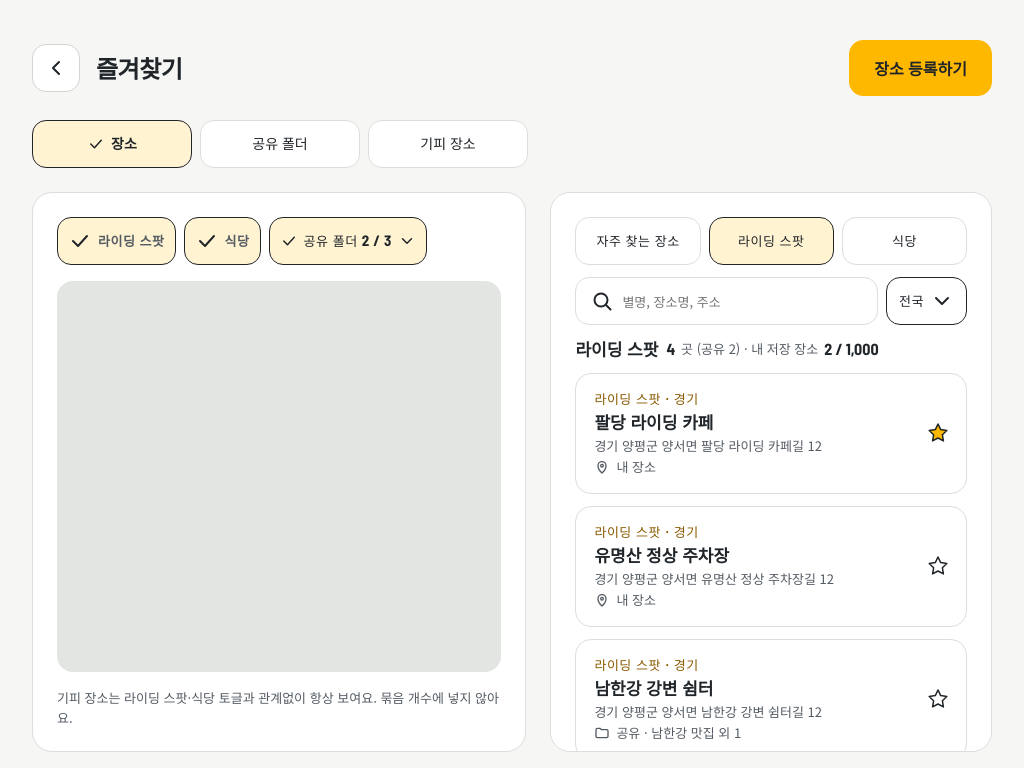
states added with the 456 frames › shows the empty invite state with the link count (G20a)
Click the button "공유 폴더": click(280, 144) left=200, top=120, right=360, bottom=168
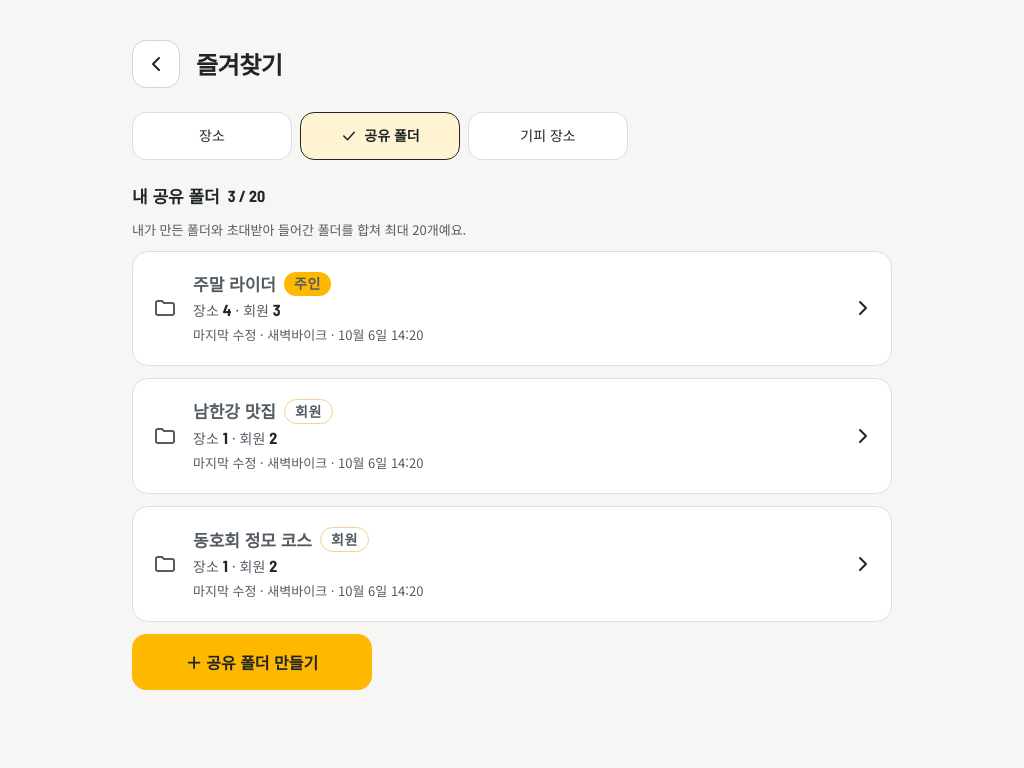
Click the button "주말 라이더 주인 장소 4 · 회원 3 마지막 수정 · 새벽바이크 · 10월 6일 14:20": click(234, 284) left=132, top=251, right=892, bottom=366
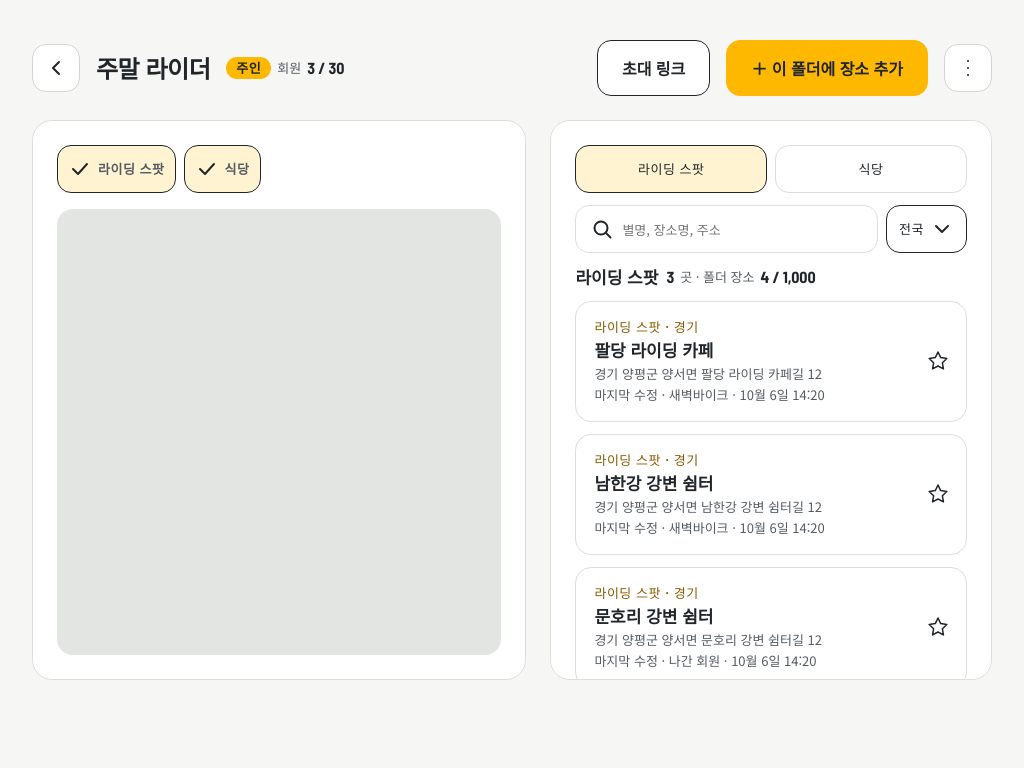
Click the button named "폴더 메뉴": click(968, 68) left=944, top=44, right=992, bottom=92
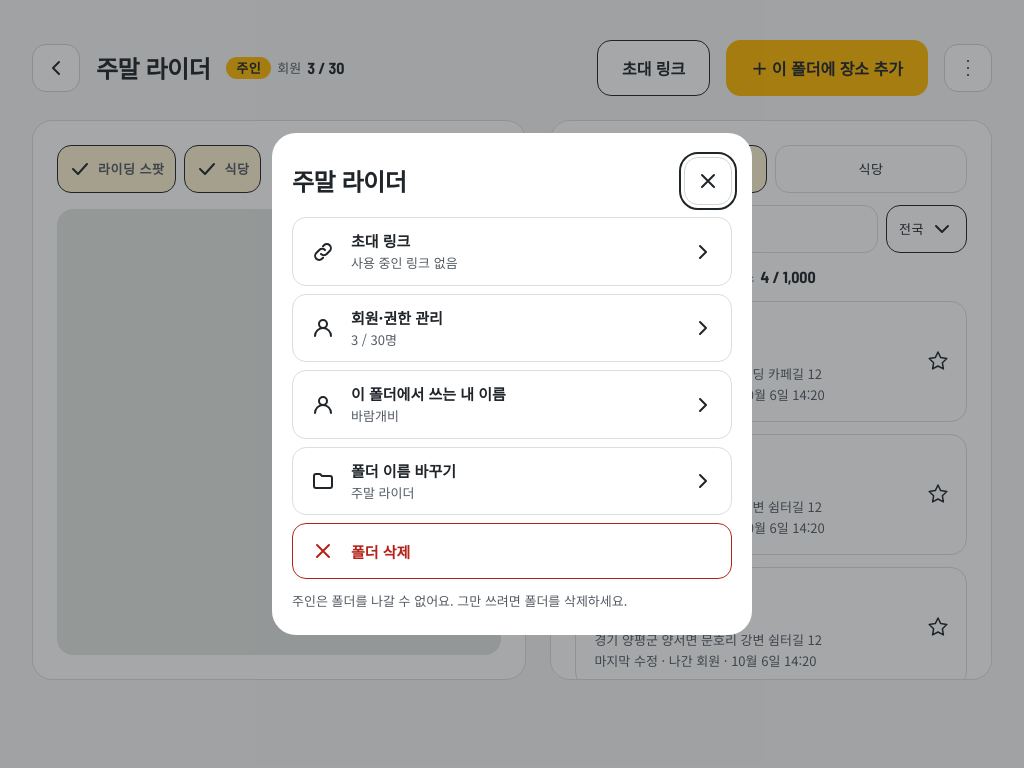
Click the button "초대 링크 사용 중인 링크 없음": click(381, 241) left=292, top=217, right=732, bottom=286
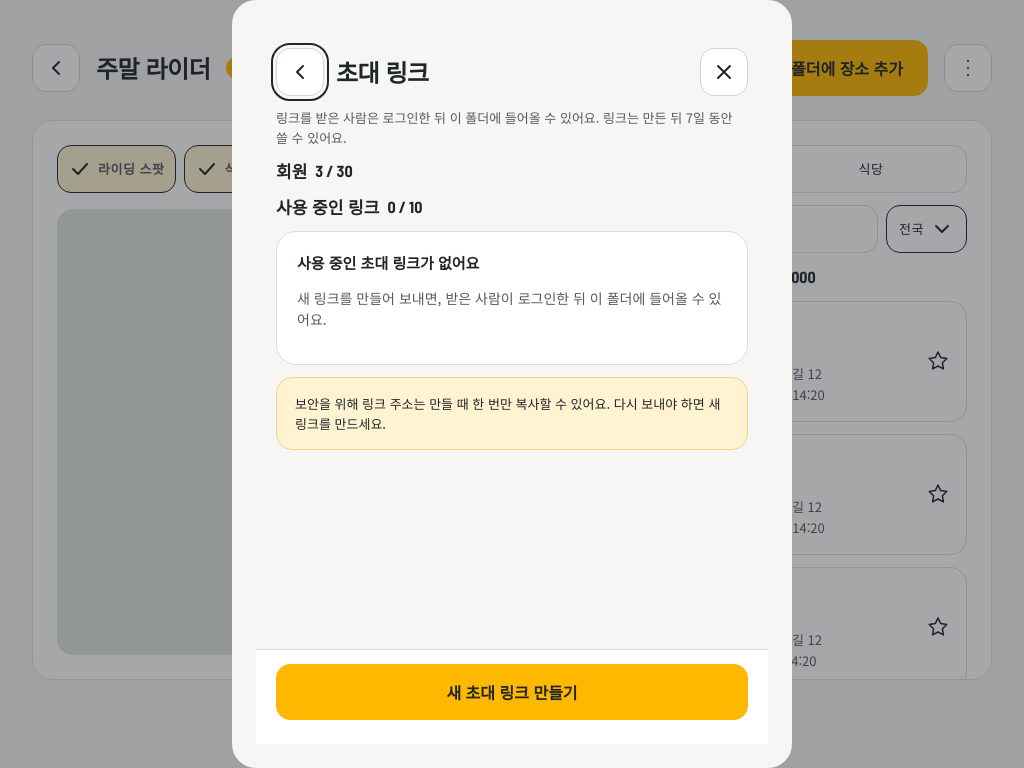
Now the text "새 링크를 만들어 보내면, 받은 사람이 로그인한 뒤 이 폴더에 들어올 수 있어요." is shown, box left=297, top=288, right=727, bottom=330
